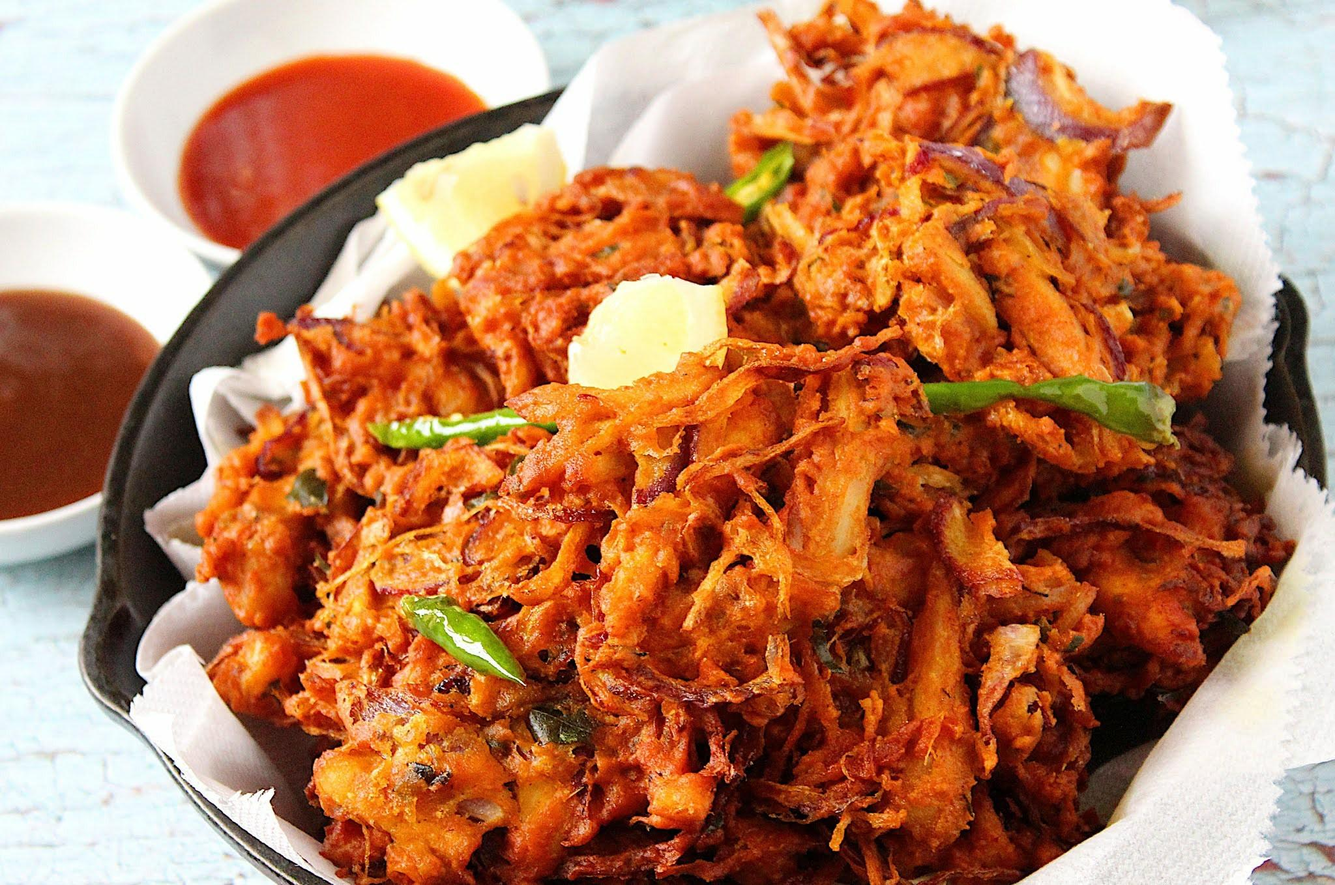OnionPakoda: (226, 12, 1276, 885)
